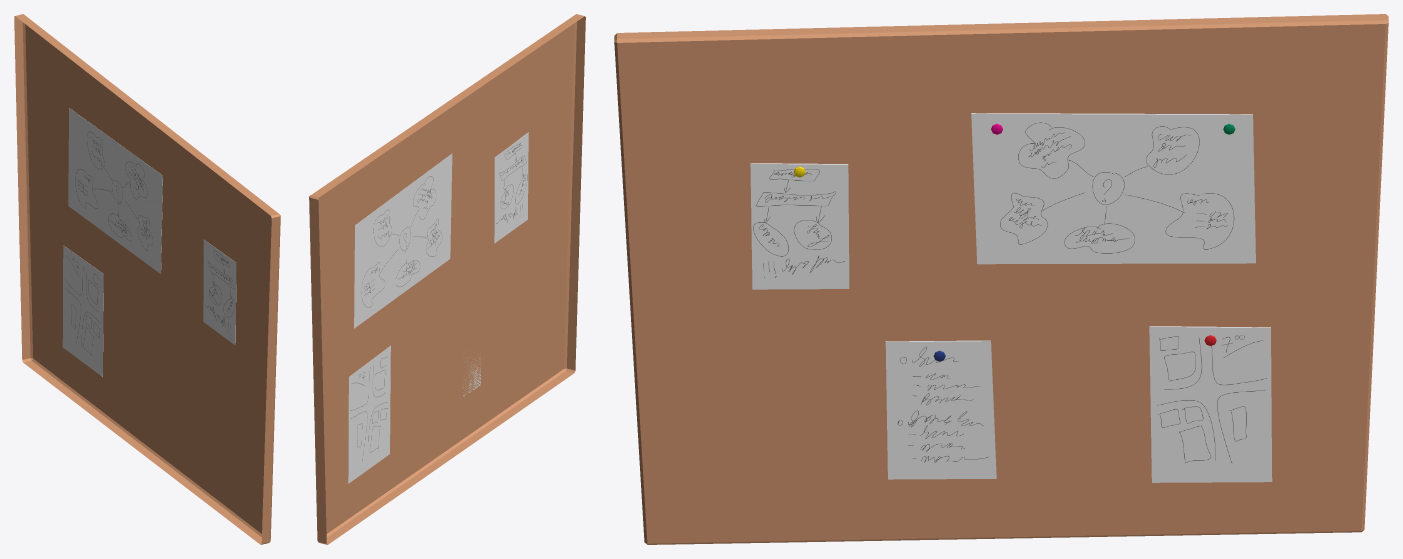
The model's file is Desk.fbx.
The picture shows the model from 3 angles, left to right: view 1: azimuth 30°, elevation 25°; view 2: azimuth 150°, elevation 25°; view 3: azimuth 270°, elevation 25°; orthographic projection. The views are drawn at different scales.
Parts seen in each view (by area): view 1: Desk; view 2: Desk; view 3: Desk.
Boxes of the visible parts, bbox=[...] form: Desk: bbox=[14, 14, 280, 544]; Desk: bbox=[309, 14, 585, 544]; Desk: bbox=[614, 14, 1388, 544].
Bounding box in the file's own units: 0.0474 × 1.2 × 1.61.
